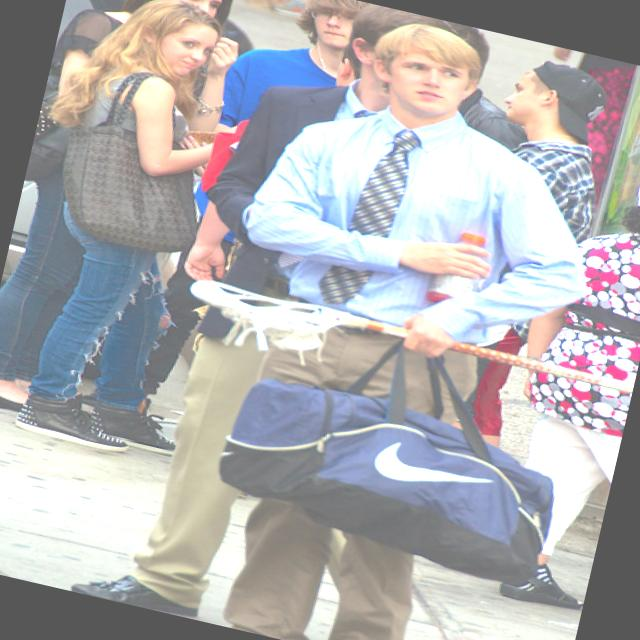Vehicle: (0, 0, 136, 297)
